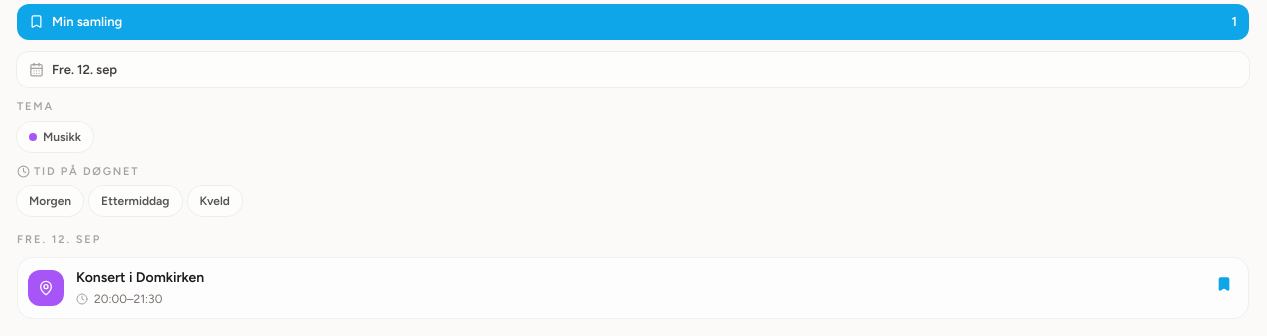
EventDetailPanel (Unit 6, R15) › lagret event → knappen viser 'Lagret i samling' (aria-pressed)
What coordinates should you click on to do the following:
click the text "Konsert i Domkirken"
I would click on:
 (140, 277)
Its box is x1=76 y1=268 x2=204 y2=286.
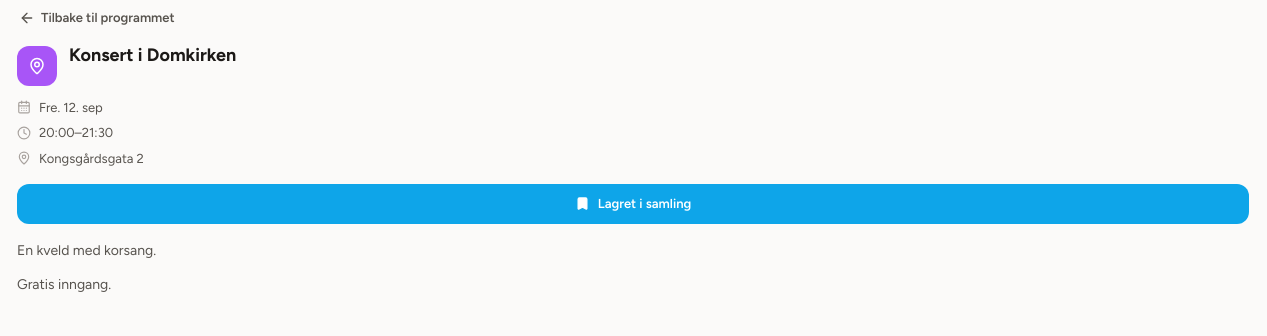
Result: the button "Lagret i samling" is shown at x1=17 y1=184 x2=1249 y2=224
